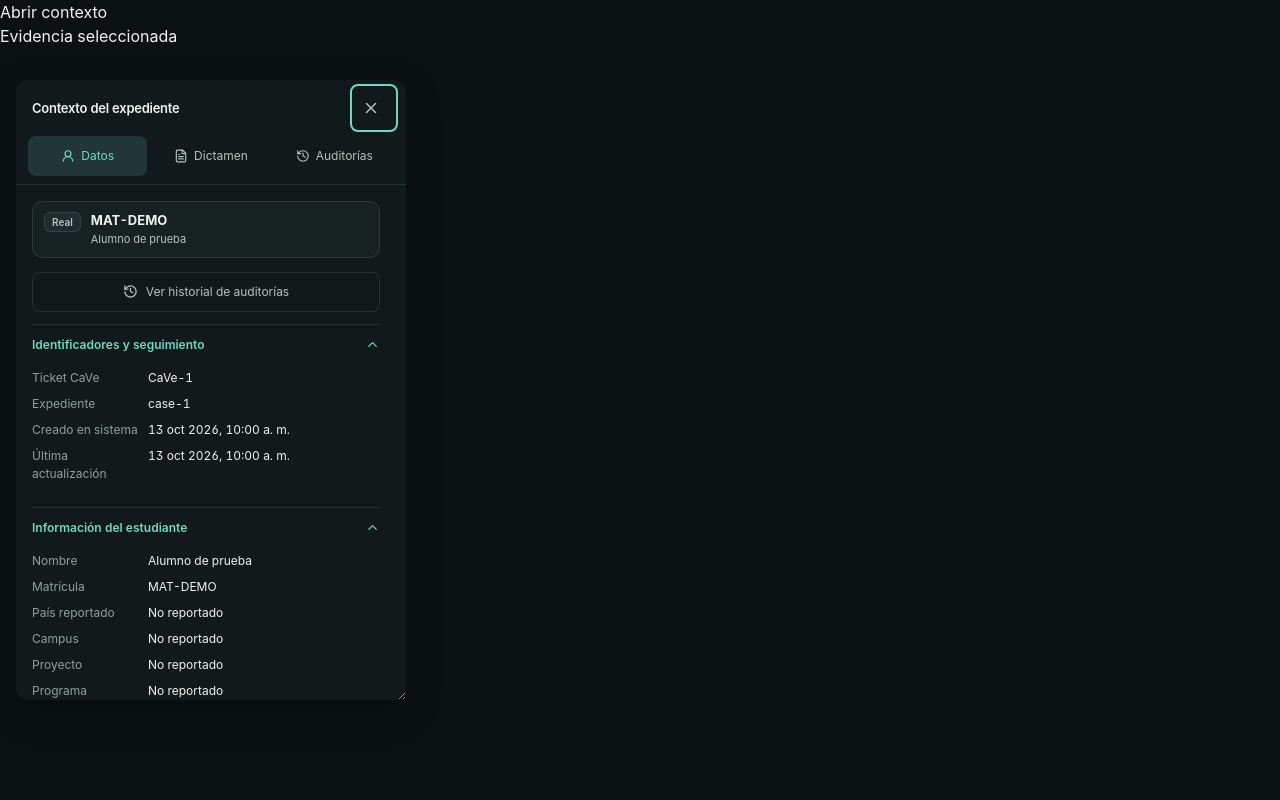
Test: ignora una carga antigua cuando se vuelve a seleccionar el dictamen actual
Click the tab "Auditorías".
click(334, 156)  # box x1=275 y1=136 x2=394 y2=176
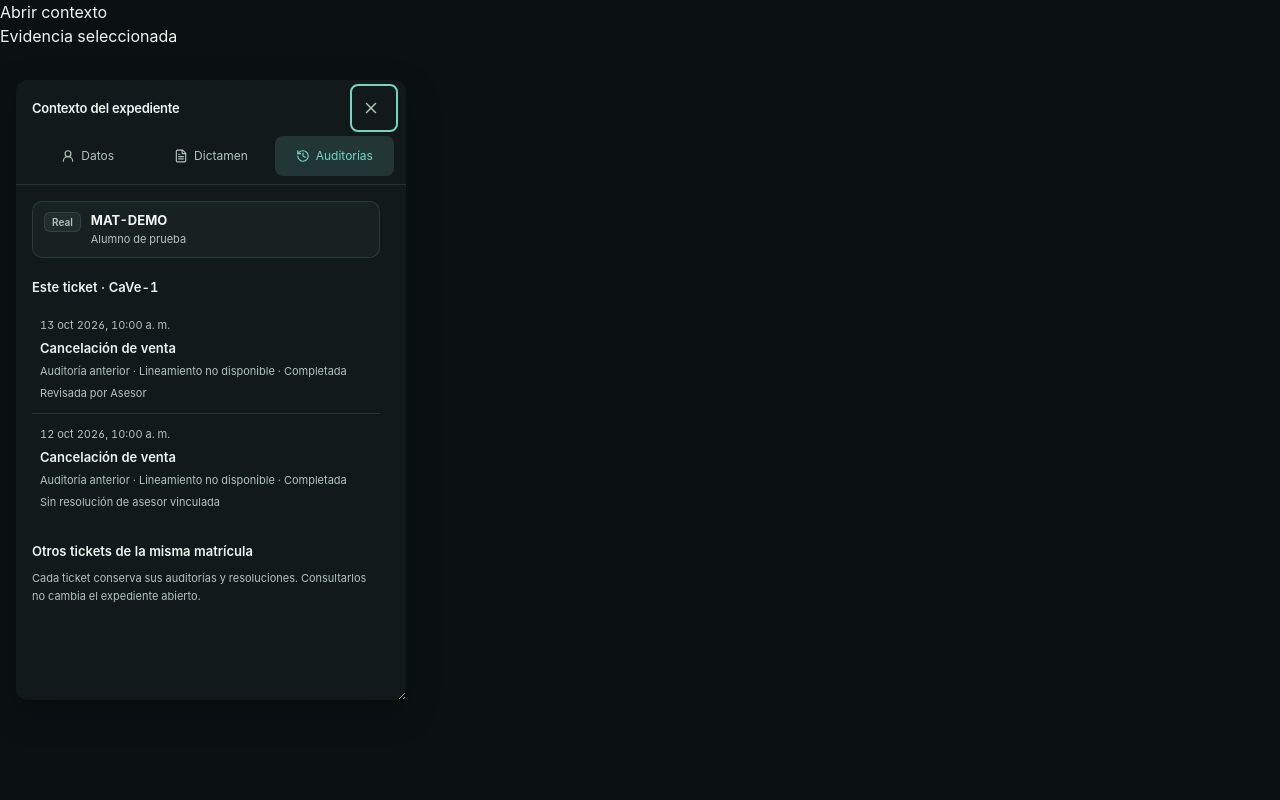
Click the button with aria-label "Consultar auditoría del 12 oct 2026, 10:00 a. m.".
click(105, 434)  # box x1=32 y1=414 x2=380 y2=522
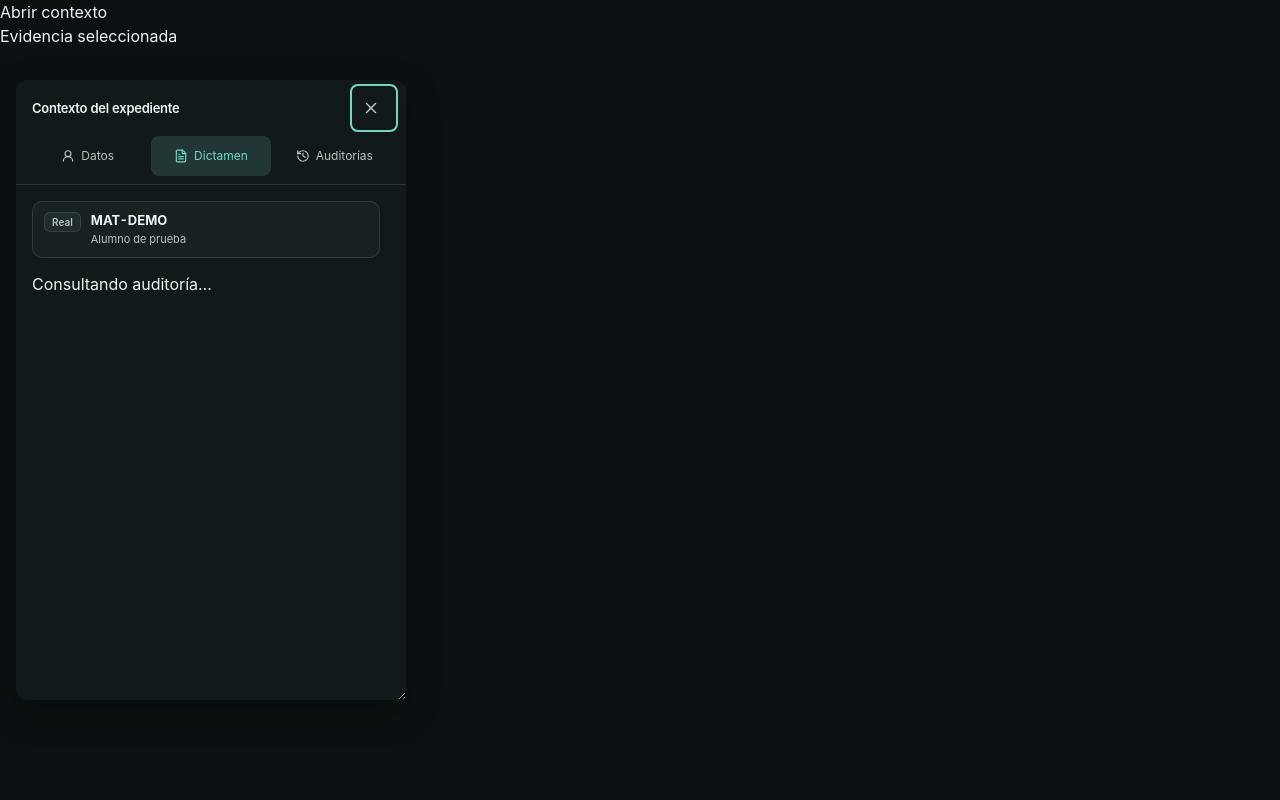
Click the tab "Auditorías".
click(334, 156)  # box x1=275 y1=136 x2=394 y2=176
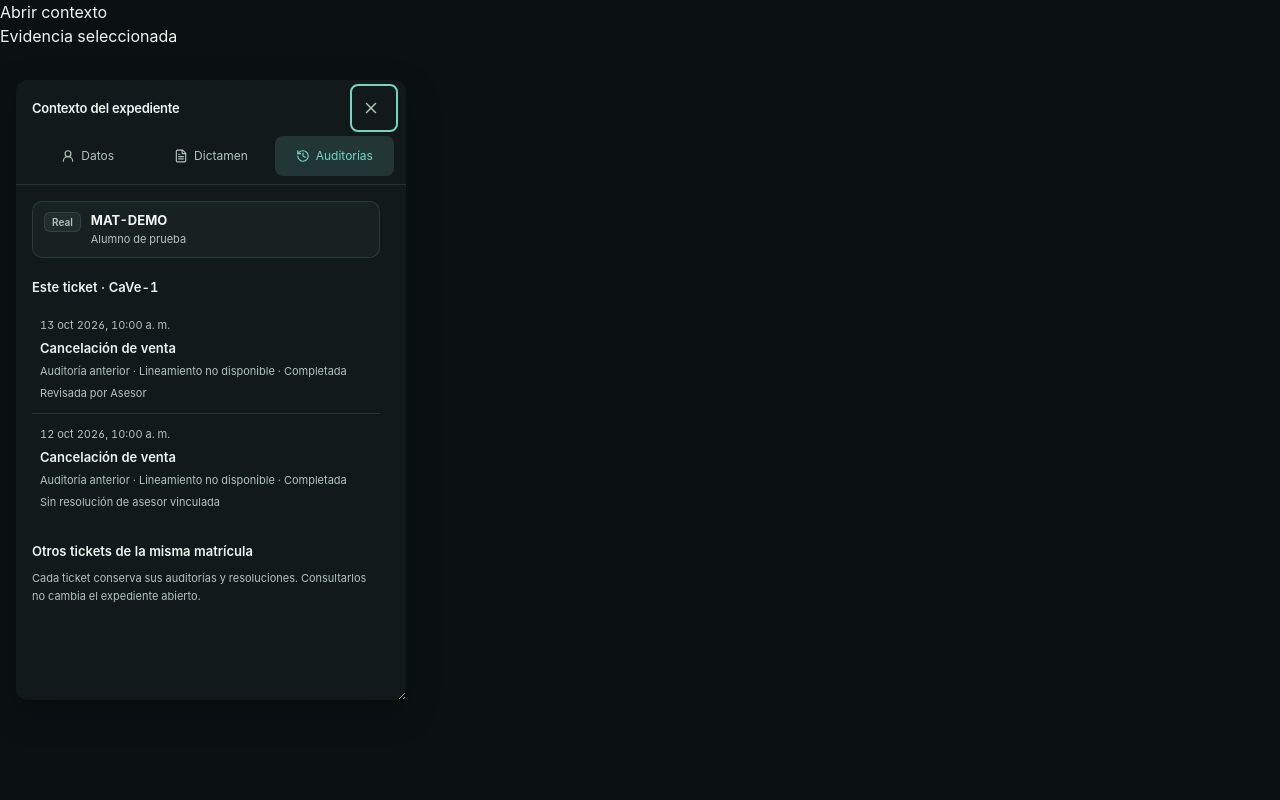
Click the button with aria-label "Consultar auditoría del 13 oct 2026, 10:00 a. m.".
click(105, 325)  # box x1=32 y1=305 x2=380 y2=413
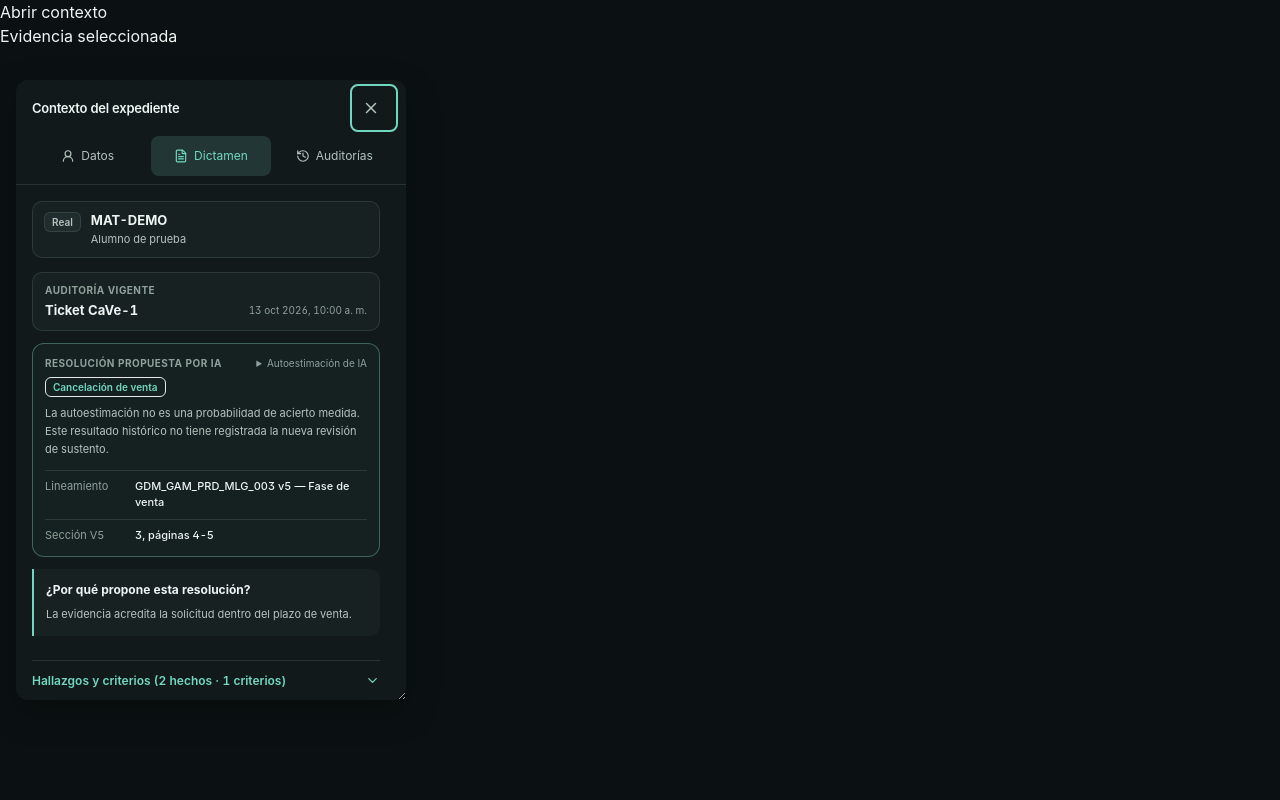
Expected: the text "La evidencia acredita la solicitud dentro del plazo de venta." is shown, x1=46 y1=606 x2=368 y2=624
